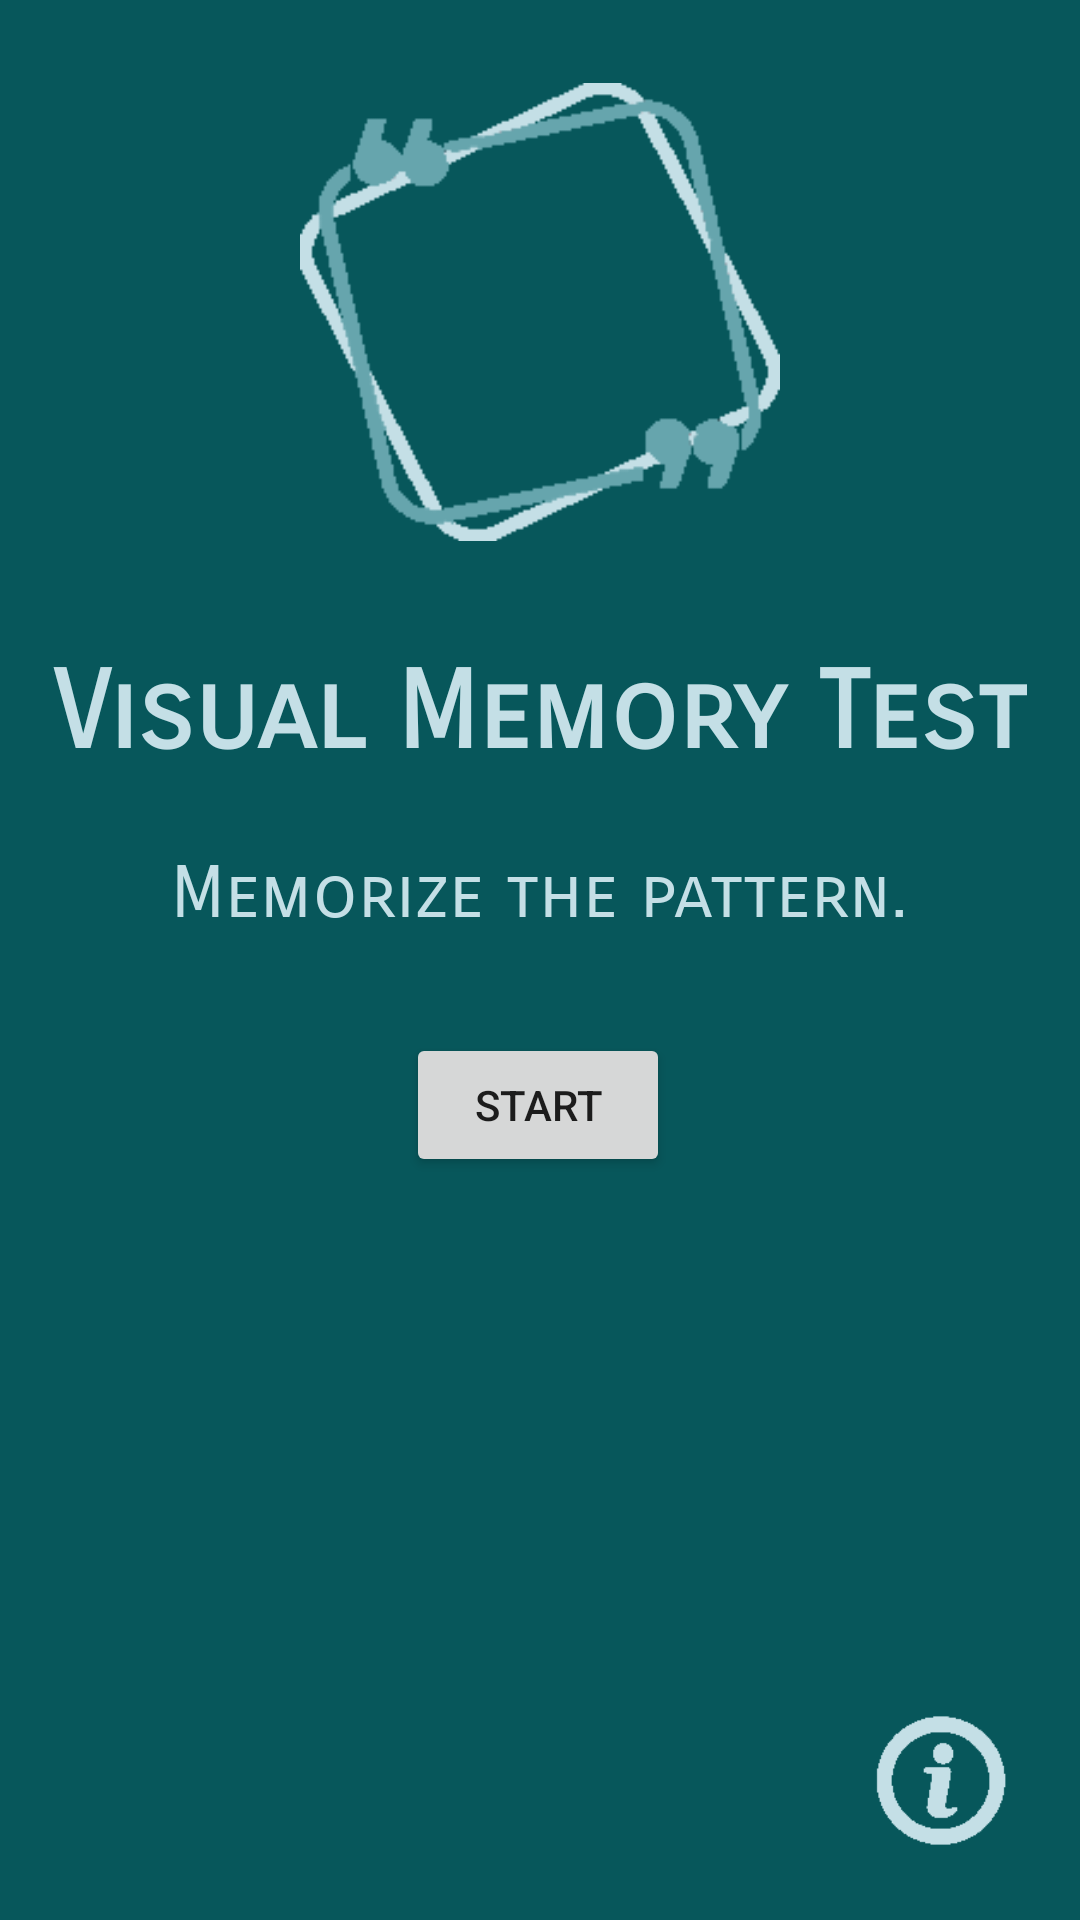

Locate icon controls on the screen. Image size 1080 x 1920, boxes as (x1, y1, x2, y2).
info: (877, 1716, 1006, 1845)
